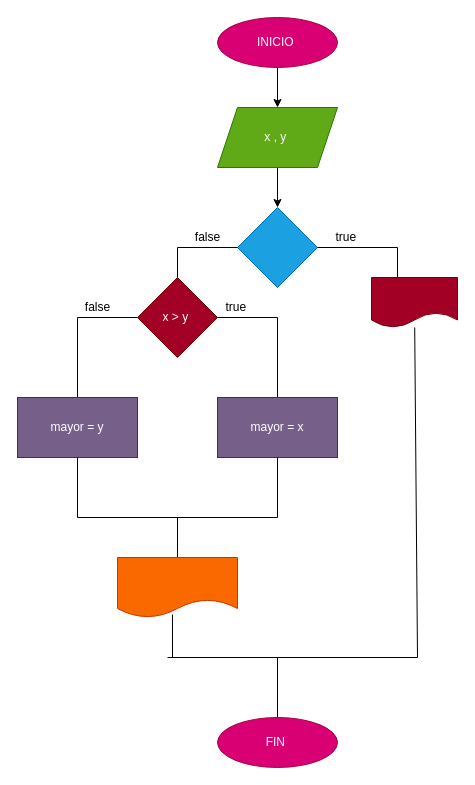
Image size: 475x785. Some labels were removed from this diagram. The centre of each missing label's shape, as x and y in pixels:
MAYOR: pixel 177 587
son iguales: pixel 414 302
x==y: pixel 277 247
